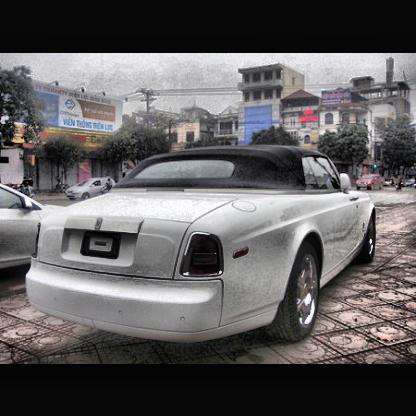Rolls-Royce Phantom Drophead Coupe Convertible 2012: (23, 141, 383, 345)
